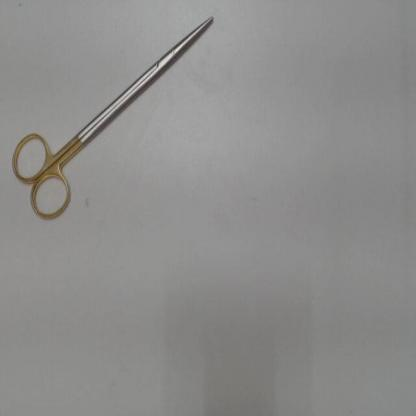7 Metzenbaum Scissors: (8, 9, 220, 228)
